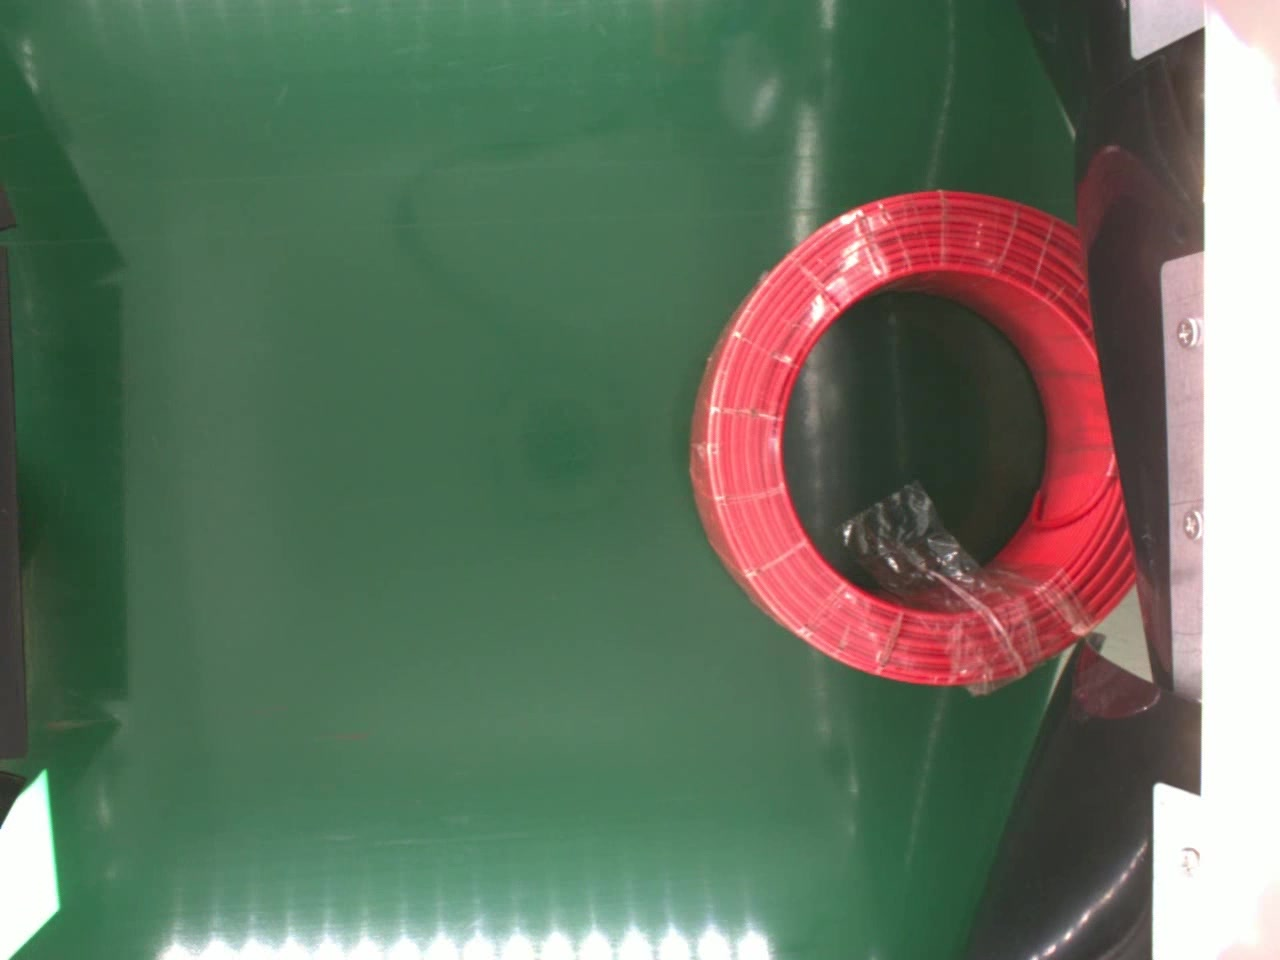red: (684, 185, 1140, 687)
